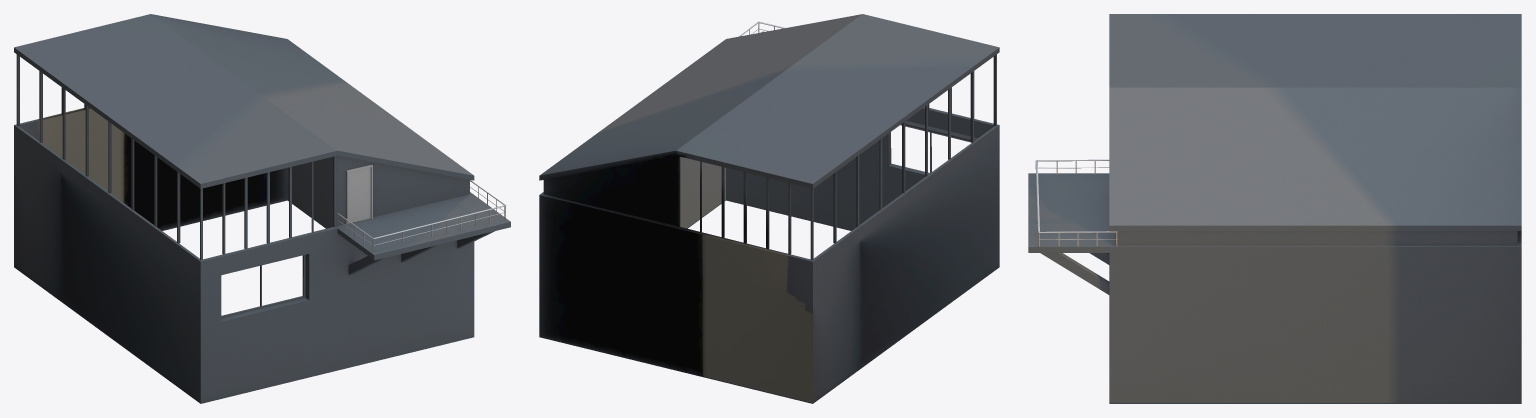
Rendered from Wall_Cabin.fbx.
3 renders of one model, left to right at view 1: azimuth 30°, elevation 25°; view 2: azimuth 150°, elevation 25°; view 3: azimuth 270°, elevation 25°, orthographic. The views are drawn at different scales.
Parts seen in each view (by area): view 1: Wall_Cabin; view 2: Wall_Cabin; view 3: Wall_Cabin.
Boxes of the visible parts, box(x1,y1,x2,y2) form: Wall_Cabin: box(14, 14, 510, 403); Wall_Cabin: box(539, 14, 999, 403); Wall_Cabin: box(1028, 14, 1521, 403).
Bounding box in the file's own units: 634 × 487 × 897.
1 material, 1 textured.
